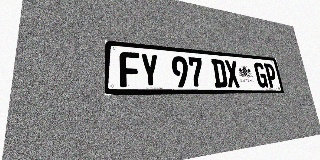7: (187, 57, 205, 87)
9: (171, 56, 190, 87)
D: (211, 59, 228, 87)
F: (119, 51, 141, 87)
G: (253, 62, 269, 88)
P: (264, 63, 278, 88)
X: (224, 60, 241, 87)
Y: (140, 53, 160, 87)
